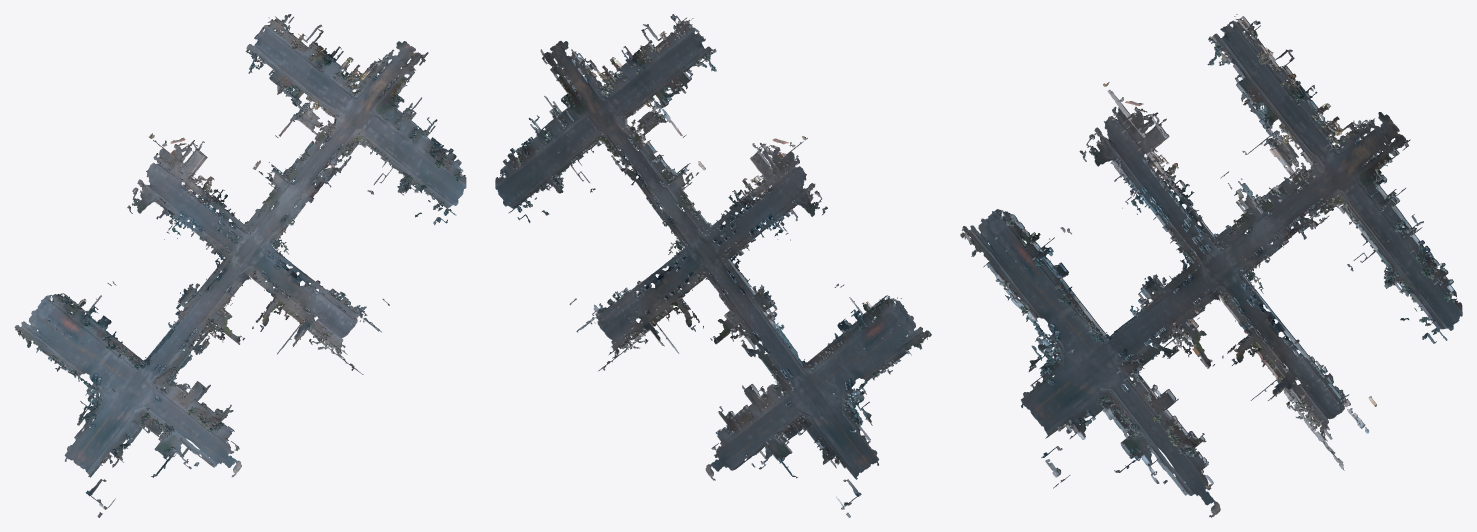
File: segment-102319_0p2_color.glb
3 views of the same model, side by side, from view 1: azimuth 30°, elevation 25°; view 2: azimuth 150°, elevation 25°; view 3: azimuth 330°, elevation 25° (orthographic). The views are drawn at different scales.
Visible parts, largest first — view 1: world; view 2: world; view 3: world.
Part boxes in pixels (x1,y1,x2,y2): world: (14, 14, 466, 517); world: (495, 14, 931, 517); world: (960, 14, 1462, 517).
Bounding box in the file's own units: 310 × 307 × 12.57.
